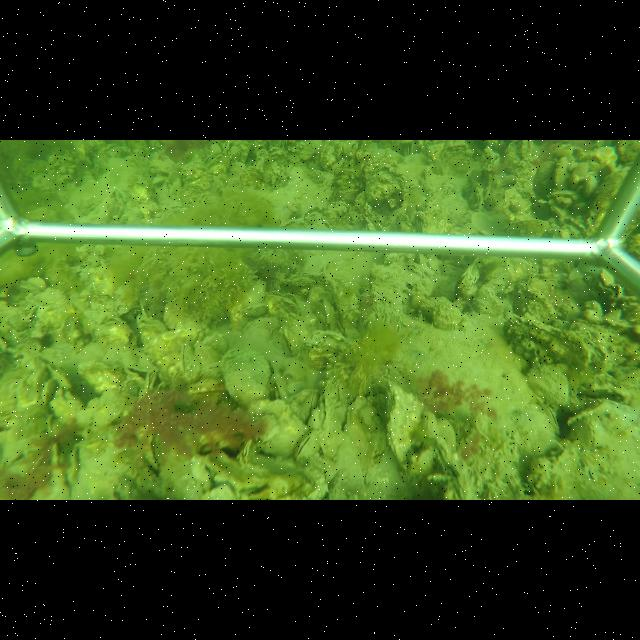Oyster-Closed: (384, 374, 424, 471), (247, 398, 309, 458), (221, 349, 273, 407), (524, 363, 568, 408), (366, 166, 406, 209), (320, 377, 344, 425), (456, 259, 481, 301), (278, 272, 325, 294), (572, 417, 604, 449), (501, 217, 551, 237), (342, 394, 366, 433), (264, 292, 302, 316), (294, 430, 319, 462), (536, 401, 560, 431), (282, 324, 304, 356), (554, 156, 569, 190), (141, 367, 159, 394)
Oyster-Open: (64, 437, 91, 494)
